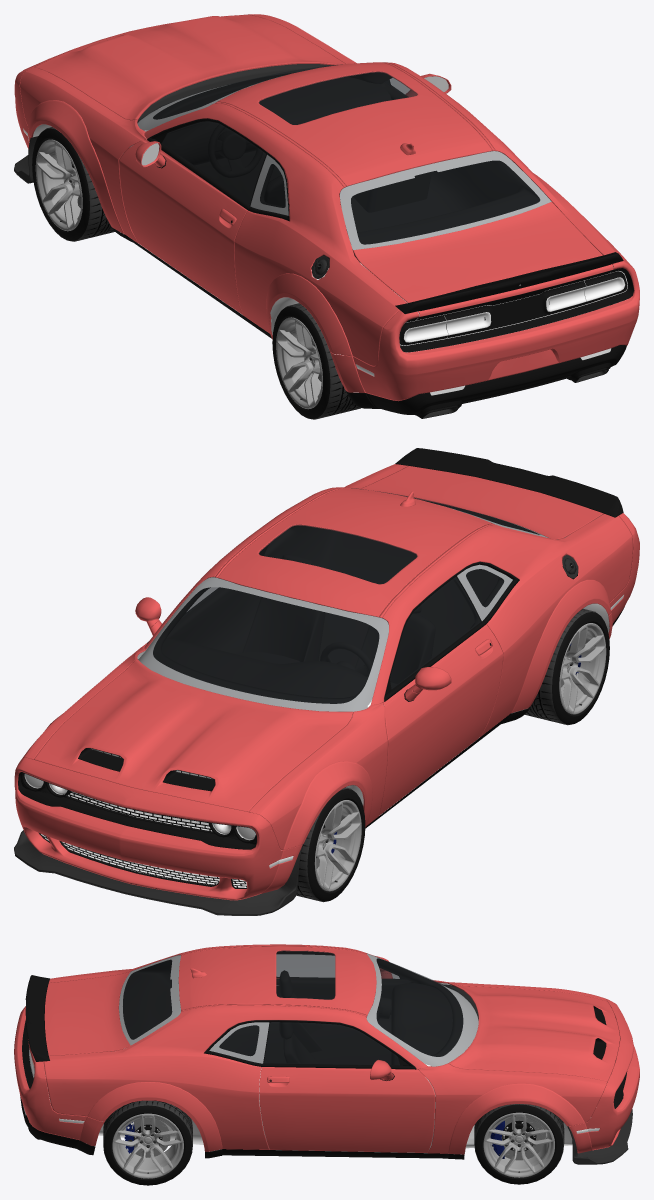
Rendered from hellcat_wb.glb.
3 views of the same model, one above another, from view 1: azimuth 30°, elevation 25°; view 2: azimuth 150°, elevation 25°; view 3: azimuth 270°, elevation 25° (orthographic). The views are drawn at different scales.
Parts seen in each view (by area): view 1: Body, Wheel_RL, Wheel_FL, SteeringWheel; view 2: Body, Wheel_RL, Wheel_FL, SteeringWheel; view 3: Body, Wheel_RR, Wheel_FR.
Part boxes in pixels (bbox=[...]): Body: bbox=[14, 14, 639, 418]; Wheel_RL: bbox=[272, 303, 360, 419]; Wheel_FL: bbox=[32, 127, 114, 241]; SteeringWheel: bbox=[208, 124, 262, 177]; Body: bbox=[14, 448, 639, 915]; Wheel_RL: bbox=[524, 608, 609, 725]; Wheel_FL: bbox=[296, 787, 365, 902]; SteeringWheel: bbox=[320, 642, 372, 676]; Body: bbox=[14, 944, 639, 1164]; Wheel_RR: bbox=[103, 1100, 192, 1185]; Wheel_FR: bbox=[474, 1104, 564, 1184].
Size of the model in its own units: 2.18 by 1.45 by 4.97.
Materials: 29 (2 with a texture image).
